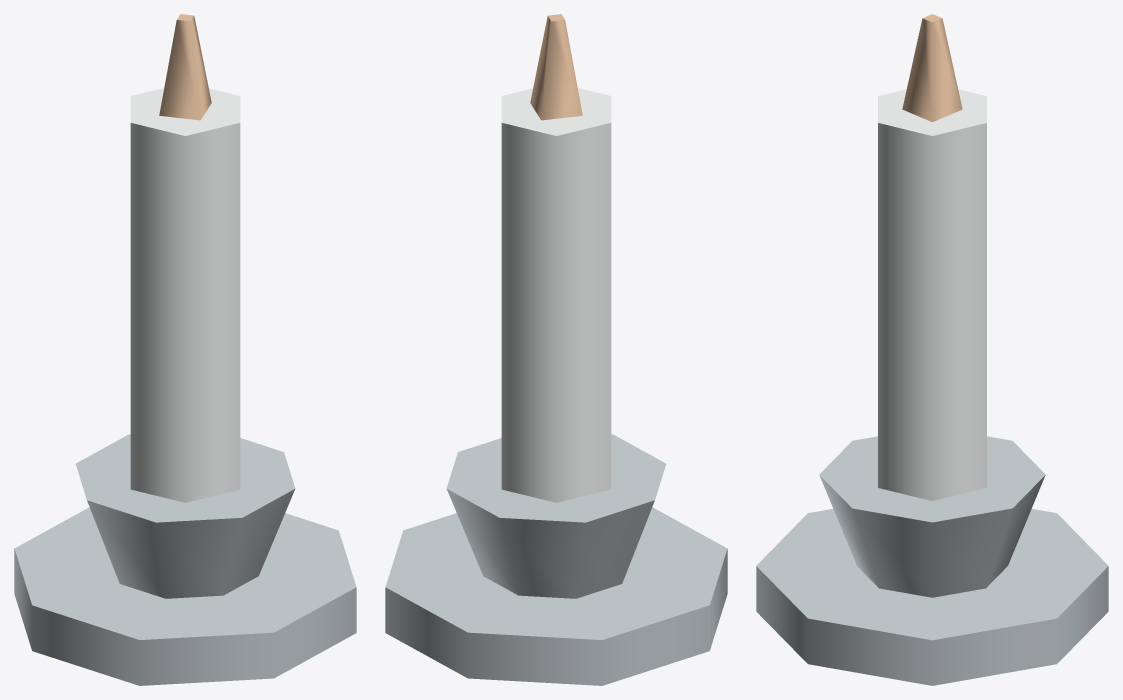
The model's file is candleSingle.glb.
The picture shows the model from 3 angles, left to right: view 1: azimuth 30°, elevation 25°; view 2: azimuth 150°, elevation 25°; view 3: azimuth 270°, elevation 25°; orthographic projection.
Parts seen in each view (by area): view 1: candleSingle; view 2: candleSingle; view 3: candleSingle.
Part boxes in pixels (left/top/right/bottom): candleSingle: left=14, top=14, right=356, bottom=685; candleSingle: left=385, top=14, right=727, bottom=685; candleSingle: left=756, top=14, right=1108, bottom=685.
Size of the model in its own units: 0.07 by 0.13 by 0.07.
